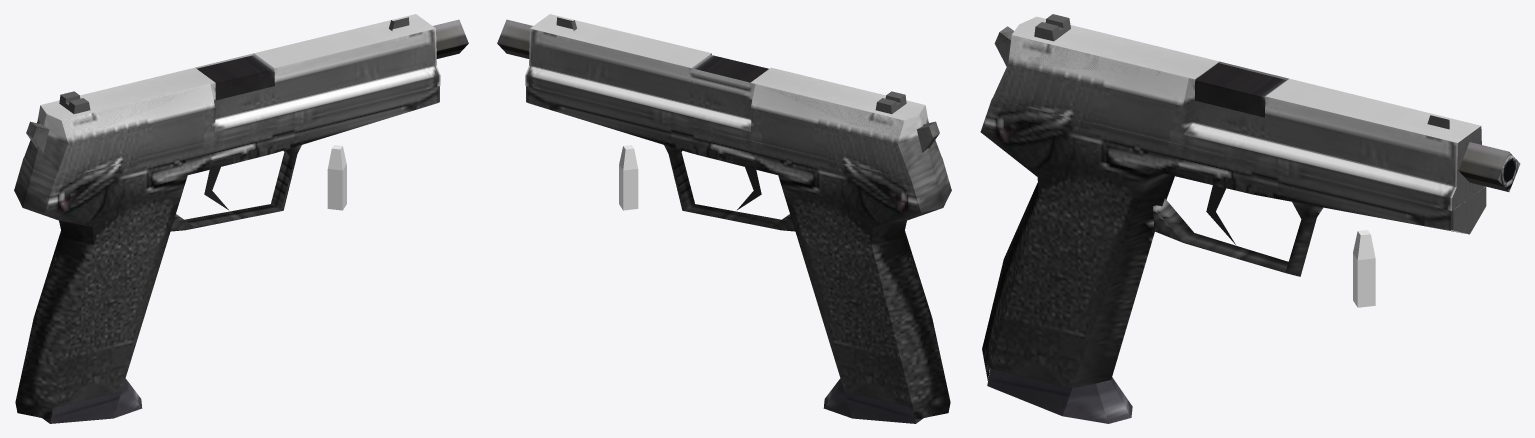
The picture shows the model from 3 angles, left to right: view 1: azimuth 30°, elevation 25°; view 2: azimuth 150°, elevation 25°; view 3: azimuth 330°, elevation 25°; orthographic projection. The views are drawn at different scales.
Parts seen in each view (by area): view 1: USPBody, USPSlide, USPMag, 9MM, USPTrigger&Hammer; view 2: USPBody, USPSlide, USPMag, 9MM, USPTrigger&Hammer; view 3: USPBody, USPSlide, USPMag, 9MM, USPTrigger&Hammer.
Part boxes in pixels (bbox=[...]): USPBody: bbox=[14, 19, 468, 419]; USPSlide: bbox=[24, 14, 440, 179]; USPMag: bbox=[42, 378, 142, 423]; 9MM: bbox=[327, 145, 346, 210]; USPTrigger&Hammer: bbox=[26, 121, 228, 209]; USPBody: bbox=[497, 19, 951, 419]; USPSlide: bbox=[525, 14, 941, 179]; USPMag: bbox=[823, 378, 923, 423]; 9MM: bbox=[619, 145, 638, 210]; USPTrigger&Hammer: bbox=[737, 121, 939, 209]; USPBody: bbox=[980, 63, 1520, 388]; USPSlide: bbox=[992, 14, 1486, 234]; USPMag: bbox=[987, 369, 1132, 423]; 9MM: bbox=[1353, 230, 1375, 307]; USPTrigger&Hammer: bbox=[994, 26, 1235, 244].
Size of the model in its own units: 2.11 by 1.44 by 0.2553.
Materials: 5 (4 with a texture image).
